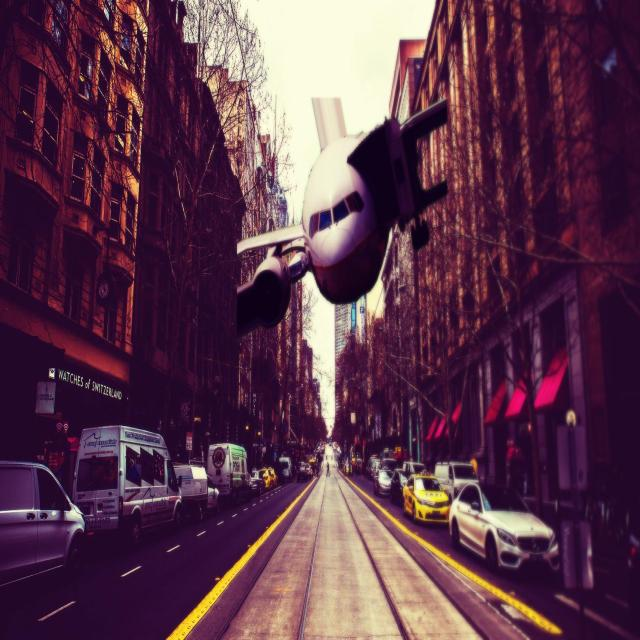airplane: (235, 94, 449, 340)
